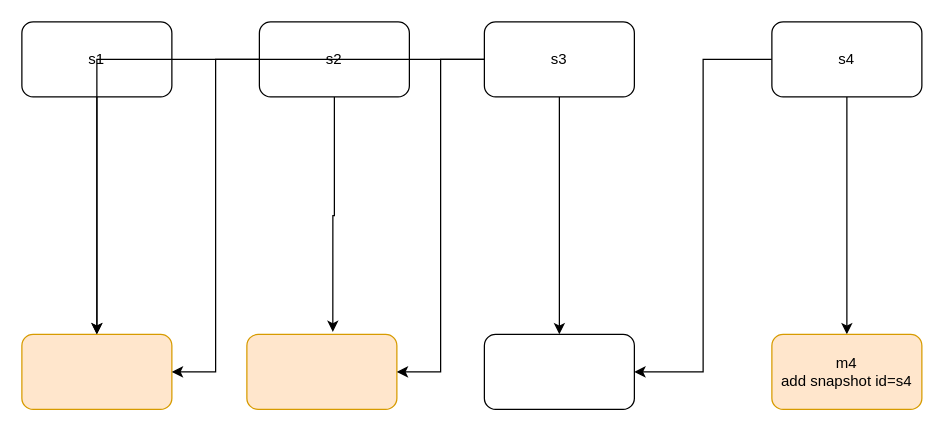
This 944x431 diagram has some shape labels left out. Here are the shapes that lost their labels. From the top down, the centre of each, then its label:
(x=96, y=371): m1 add snapshot id=s1
(x=321, y=371): m2 add snapshot id=s2
(x=558, y=371): m3 add snapshot id=s2
